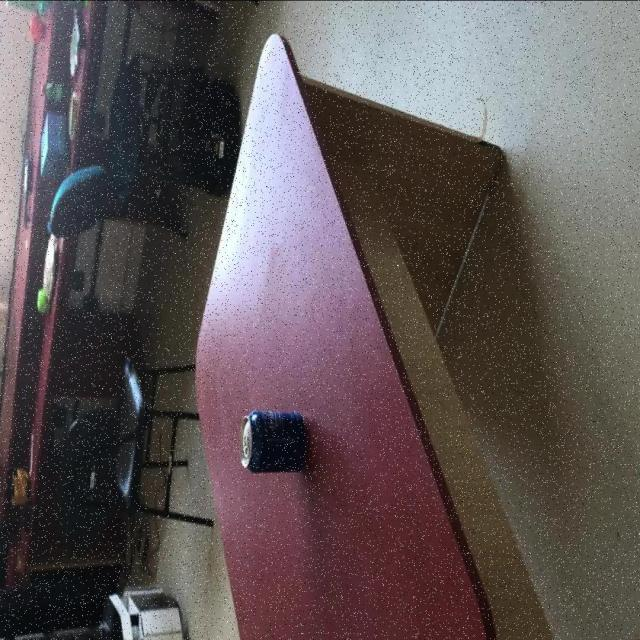Tonic: (237, 406, 306, 473), (32, 0, 88, 8), (4, 0, 39, 12)
